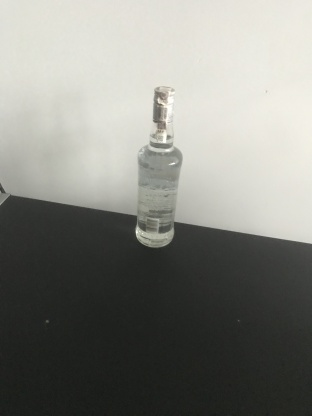nakretka: (151, 84, 176, 124)
